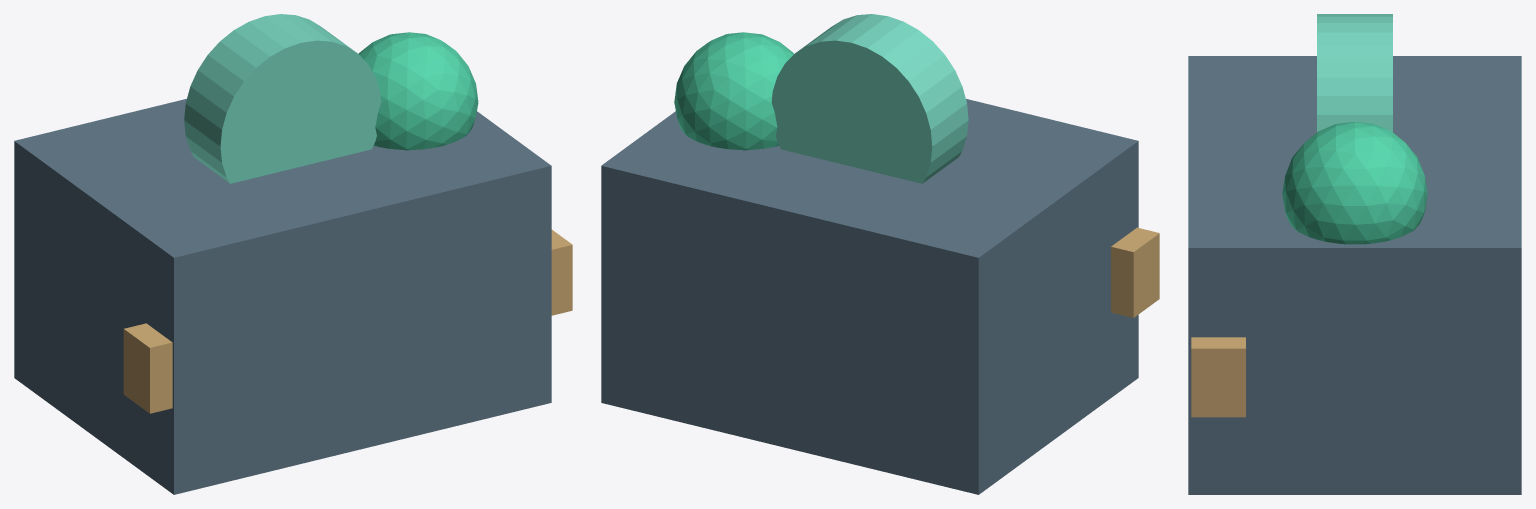
Rendered from reparador-comum.glb.
3 renders of one model, left to right at view 1: azimuth 30°, elevation 25°; view 2: azimuth 150°, elevation 25°; view 3: azimuth 270°, elevation 25°, orthographic. The views are drawn at different scales.
Parts seen in each view (by area): view 1: core, healing_port, green_repair_cell, case; view 2: core, healing_port, green_repair_cell, case; view 3: core, green_repair_cell, healing_port, case.
Part boxes in pixels (x1=…): core: x1=14, y1=99, x2=551, y2=494; healing_port: x1=184, y1=14, x2=380, y2=183; green_repair_cell: x1=358, y1=32, x2=478, y2=150; case: x1=123, y1=229, x2=572, y2=413; core: x1=601, y1=99, x2=1138, y2=494; healing_port: x1=771, y1=14, x2=968, y2=183; green_repair_cell: x1=674, y1=32, x2=793, y2=150; case: x1=1111, y1=227, x2=1159, y2=317; core: x1=1188, y1=56, x2=1521, y2=494; green_repair_cell: x1=1282, y1=122, x2=1427, y2=244; healing_port: x1=1317, y1=14, x2=1392, y2=132; case: x1=1191, y1=337, x2=1245, y2=417.
Size of the model in its own units: 1.68 by 1.37 by 1.1.
